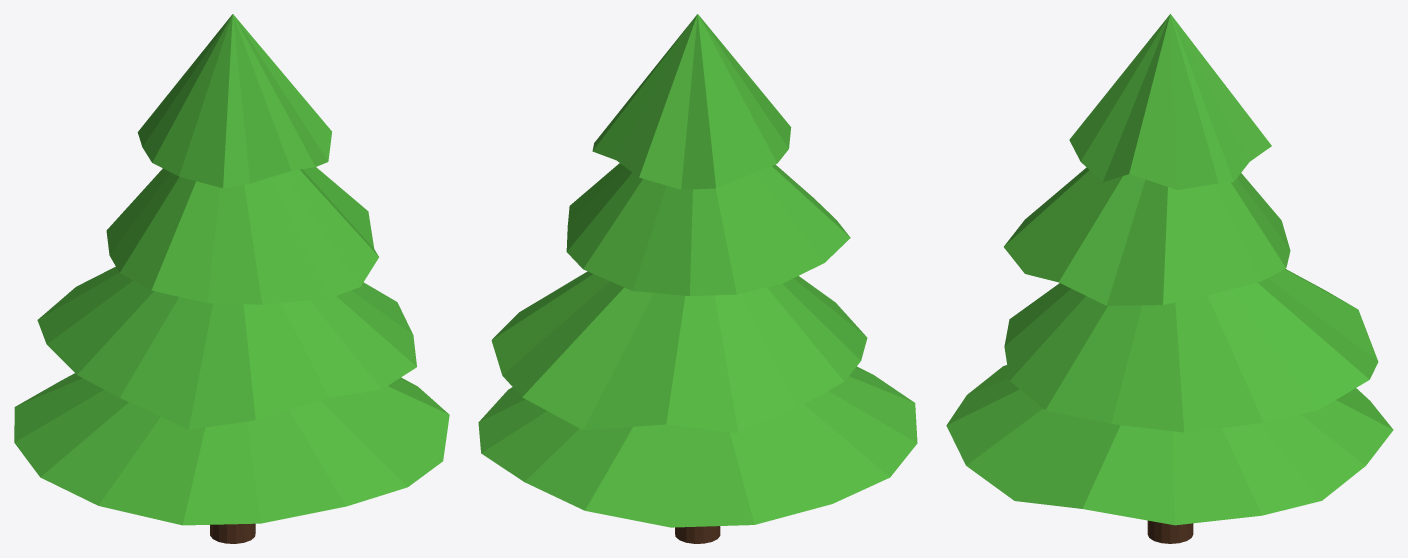
The model's file is Tree1.fbx.
3 views of the same model, side by side, from view 1: azimuth 30°, elevation 25°; view 2: azimuth 150°, elevation 25°; view 3: azimuth 270°, elevation 25° (orthographic).
Parts seen in each view (by area): view 1: Cylinder; view 2: Cylinder; view 3: Cylinder.
Boxes of the visible parts, box(x1,y1,x2,y2) form: Cylinder: box(14, 14, 449, 543); Cylinder: box(478, 14, 917, 543); Cylinder: box(946, 14, 1393, 543).
Size of the model in its own units: 382 by 500 by 390.
